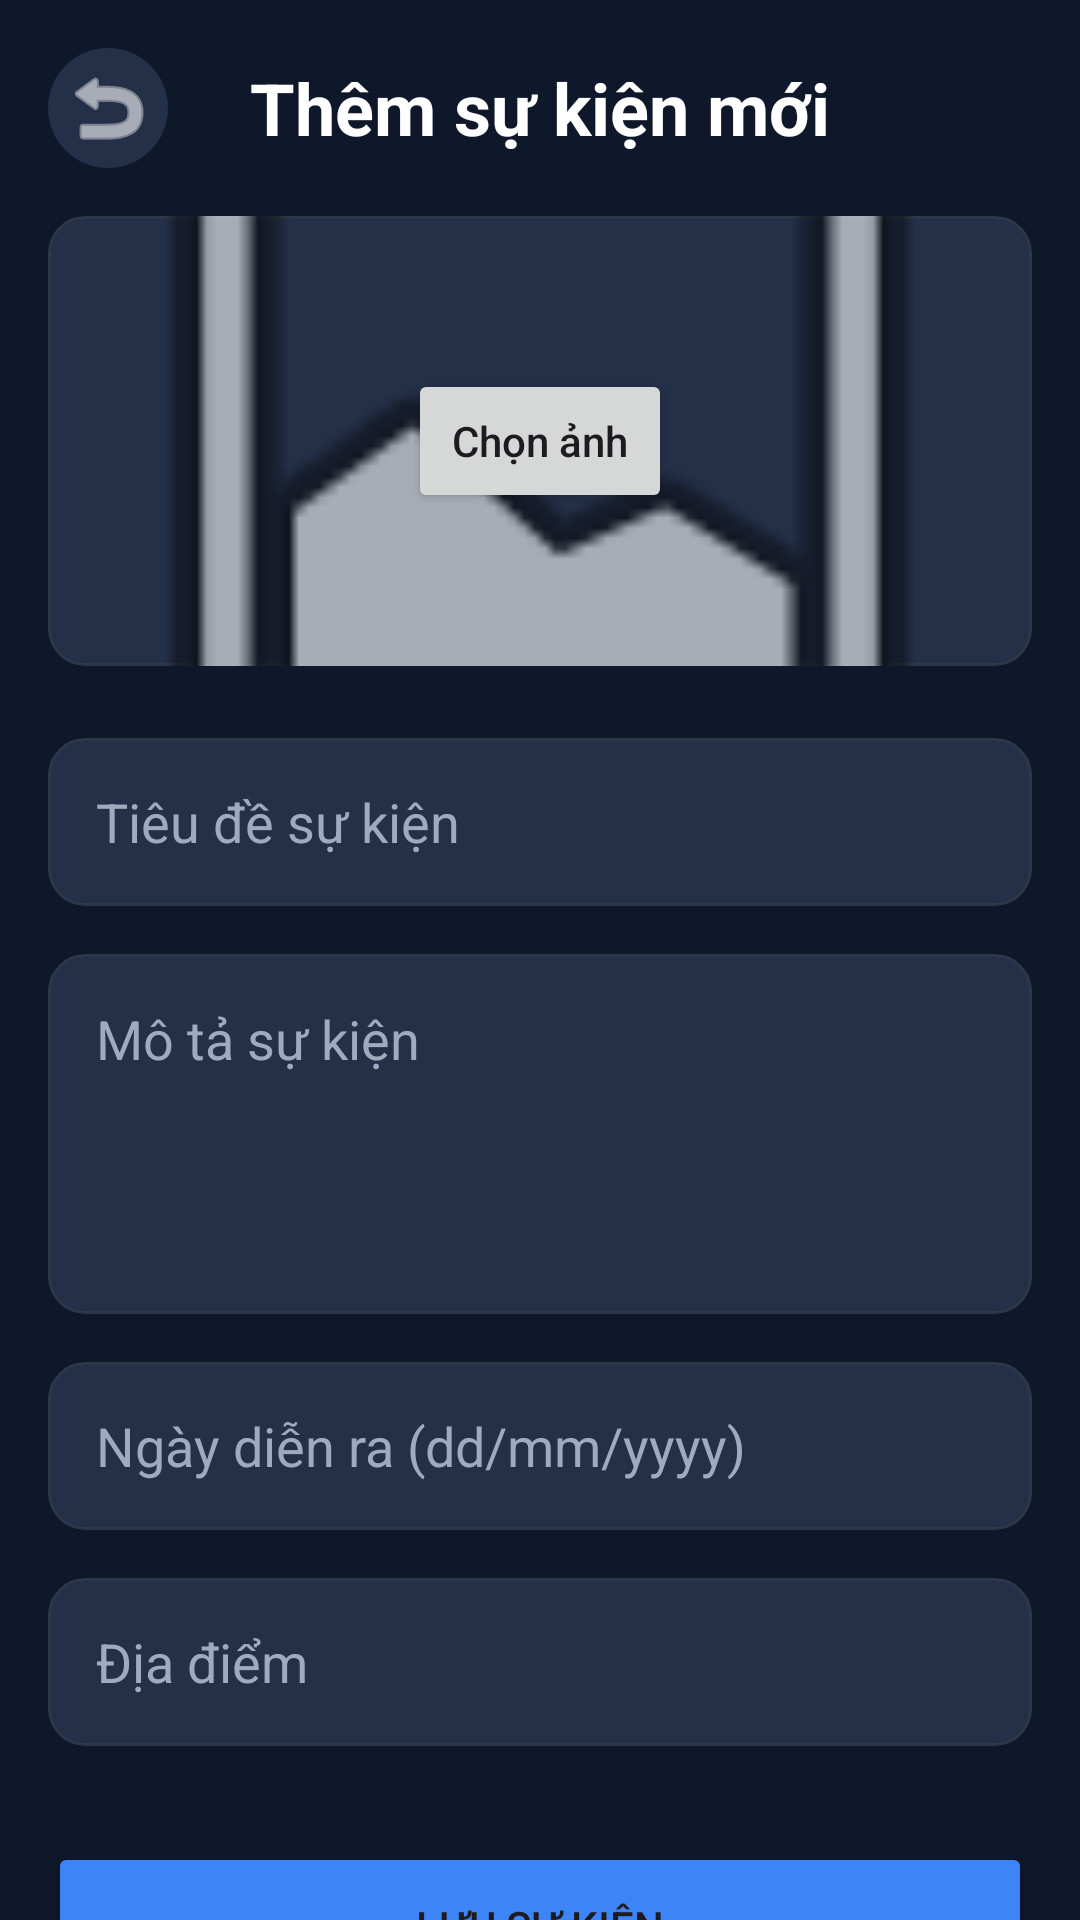

Point at icon controls on the screen. Image size 1080px x 1920px, points as point (x, y).
revert: point (108, 108)
